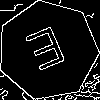E: (23, 25, 72, 81)
